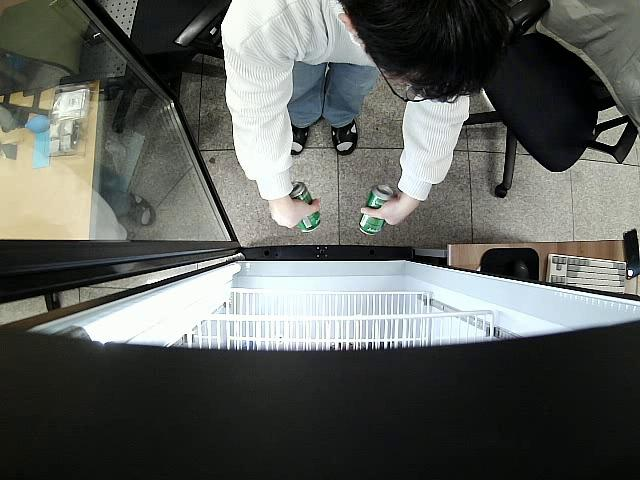00_hand: (359, 195, 419, 227), (269, 197, 322, 231)
12_chilsungCider: (357, 183, 393, 236), (289, 182, 322, 234)
